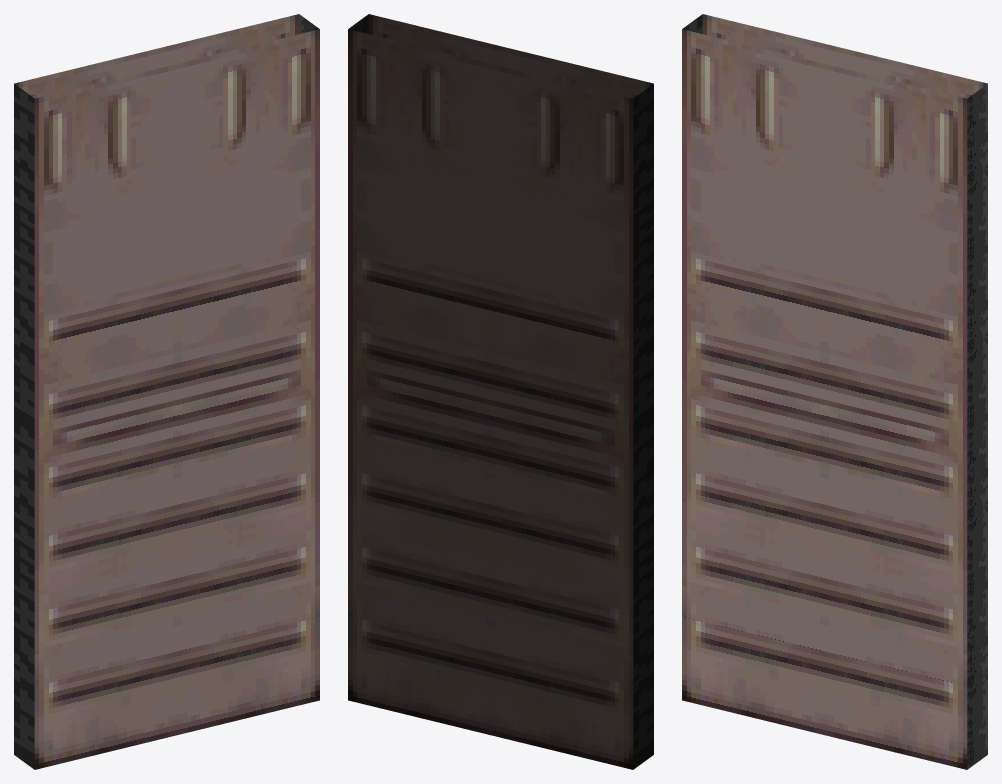
File: Pgas_plant_met1_do1Z.obj
3 views of the same model, side by side, from view 1: azimuth 30°, elevation 25°; view 2: azimuth 150°, elevation 25°; view 3: azimuth 330°, elevation 25° (orthographic).
Bounding box in the file's own units: 700 × 1575 × 88.
Materials: 5 (5 with a texture image).
